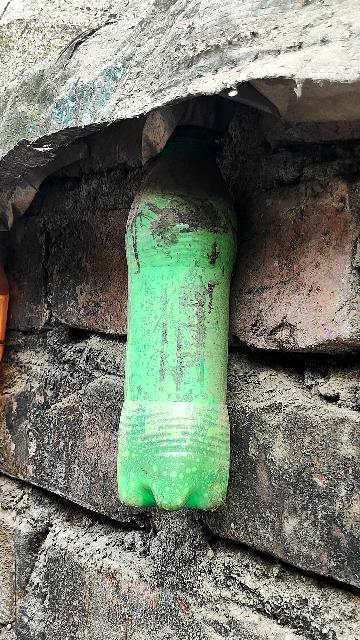bottle: (101, 102, 253, 526)
